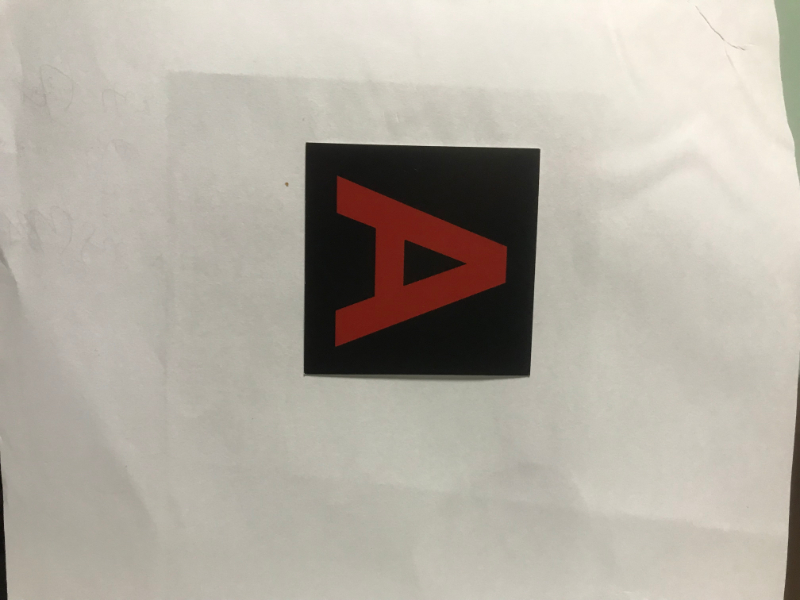A-11: (310, 151, 528, 373)
